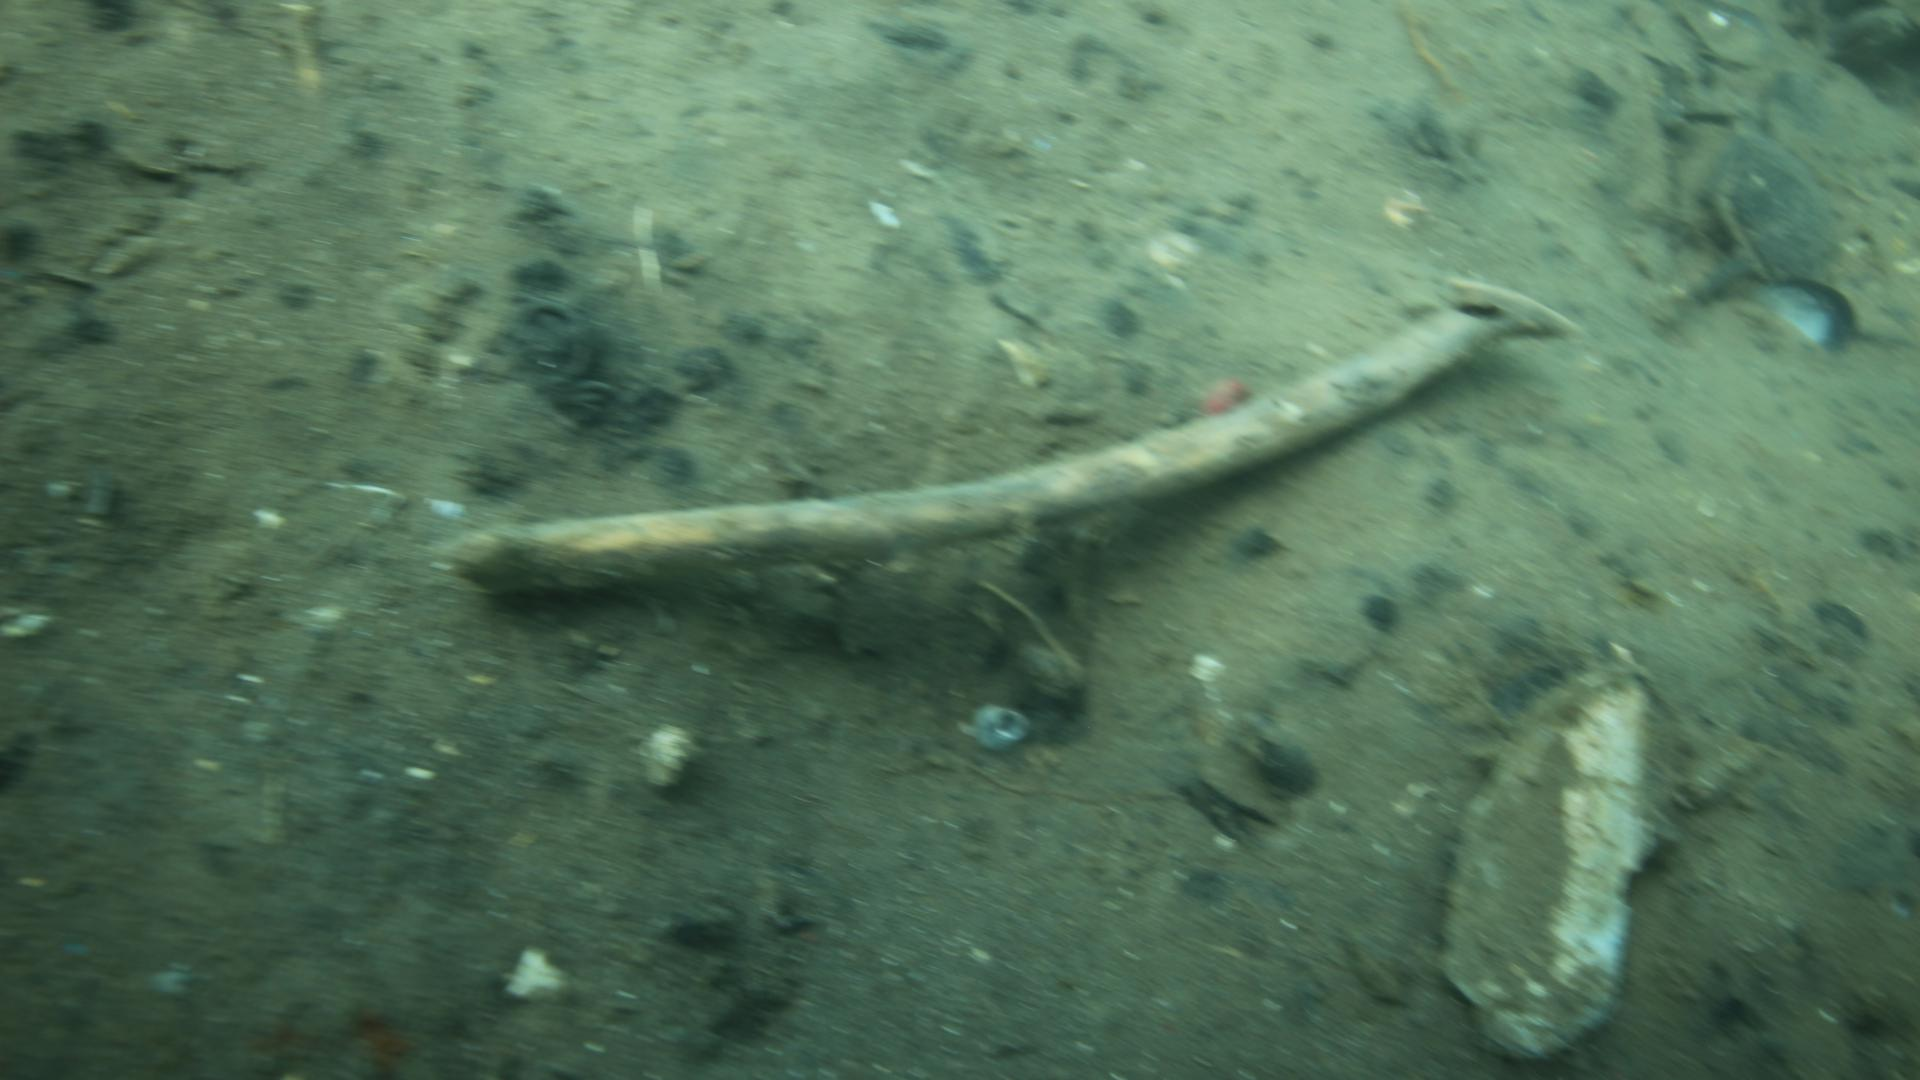wood: (454, 298, 1509, 583)
